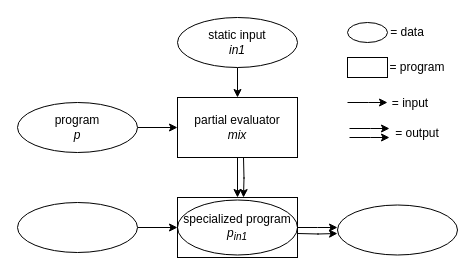
The diagram is 475 pixels wide and 275 high, and some of its shapes have lost their labels. The shapes that lost their labels are listed below. From the top down, each one's centre as x and y in pixels, then its label:
At point 77,227: "dynamic input in2".
At point 397,229: "output".
